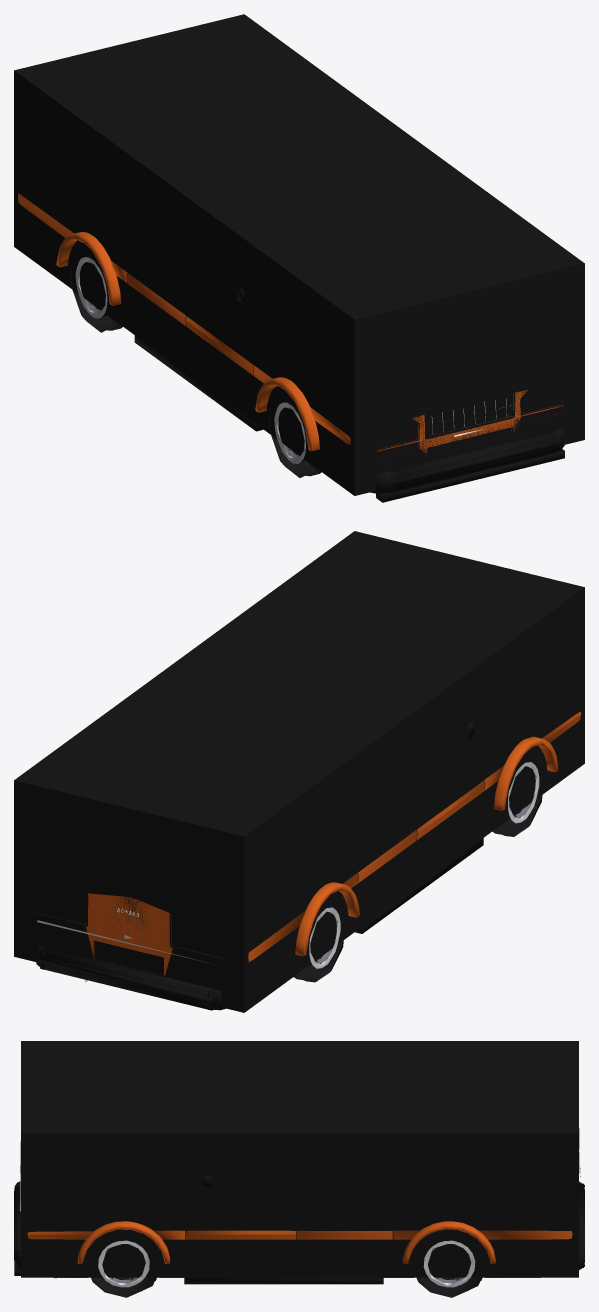
Rendered from atmaca_modified_lod2.glb.
3 views of the same model, one above another, from view 1: azimuth 30°, elevation 25°; view 2: azimuth 150°, elevation 25°; view 3: azimuth 270°, elevation 25° (orthographic). The views are drawn at different scales.
Visible parts, largest first — view 1: col_body, trim, body, wheel_FR, wheel_RR; view 2: col_body, body, trim, wheel_RR, wheel_FR; view 3: col_body, body, trim, wheel_RL, wheel_FL.
Part boxes in pixels (x1,y1,x2,y2): col_body: (14,14,584,495); trim: (134,286,564,502); body: (18,193,562,453); wheel_FR: (268,400,321,477); wheel_RR: (70,255,122,332); col_body: (14,531,584,1012); body: (35,711,581,975); trim: (32,719,483,1010); wheel_RR: (294,906,346,982); wheel_FR: (492,761,545,836); col_body: (21,1041,578,1277); body: (27,1221,572,1278); trim: (14,1128,584,1284); wheel_RL: (416,1240,482,1297); wheel_FL: (91,1240,156,1297).
Size of the model in its own units: 1.77 by 1.37 by 4.3.
